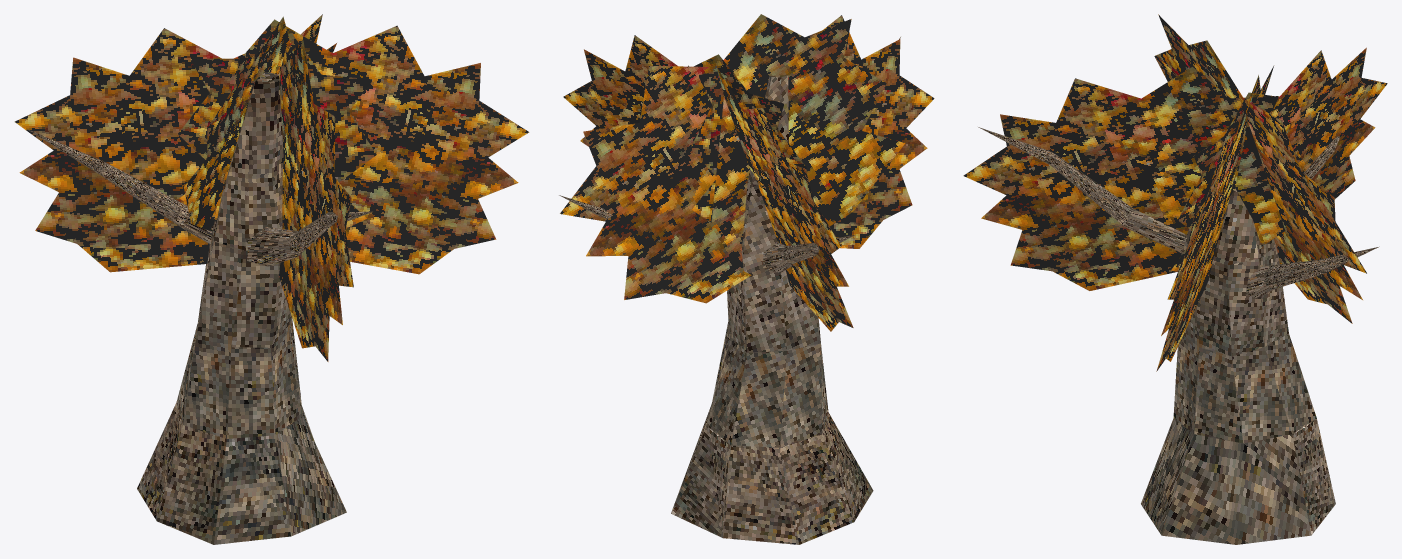
Rendered from model_tree_fall.glb.
The picture shows the model from 3 angles, left to right: view 1: azimuth 30°, elevation 25°; view 2: azimuth 150°, elevation 25°; view 3: azimuth 270°, elevation 25°; orthographic projection. The views are drawn at different scales.
Visible parts, largest first — view 1: leaves, trunk; view 2: leaves, trunk; view 3: leaves, trunk.
Boxes of the visible parts, x1,y1,x2,y2 form: leaves: (14, 14, 529, 361); trunk: (27, 72, 372, 544); leaves: (560, 14, 934, 331); trunk: (559, 37, 900, 544); leaves: (963, 14, 1387, 371); trunk: (978, 127, 1379, 544).
Size of the model in its own units: 3.69 by 4.27 by 3.45.
2 materials, 2 textured.
